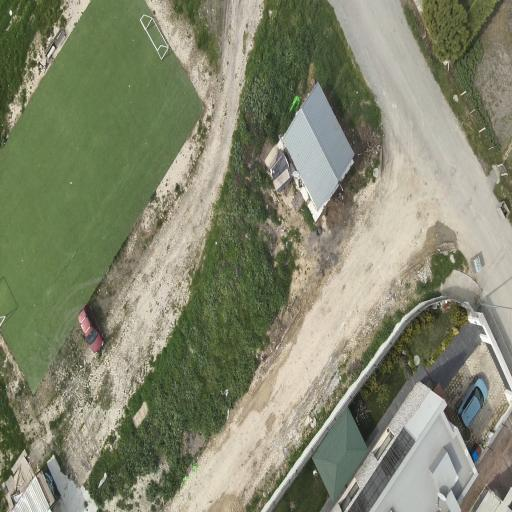car: (458, 377, 488, 427), (79, 304, 103, 353)
